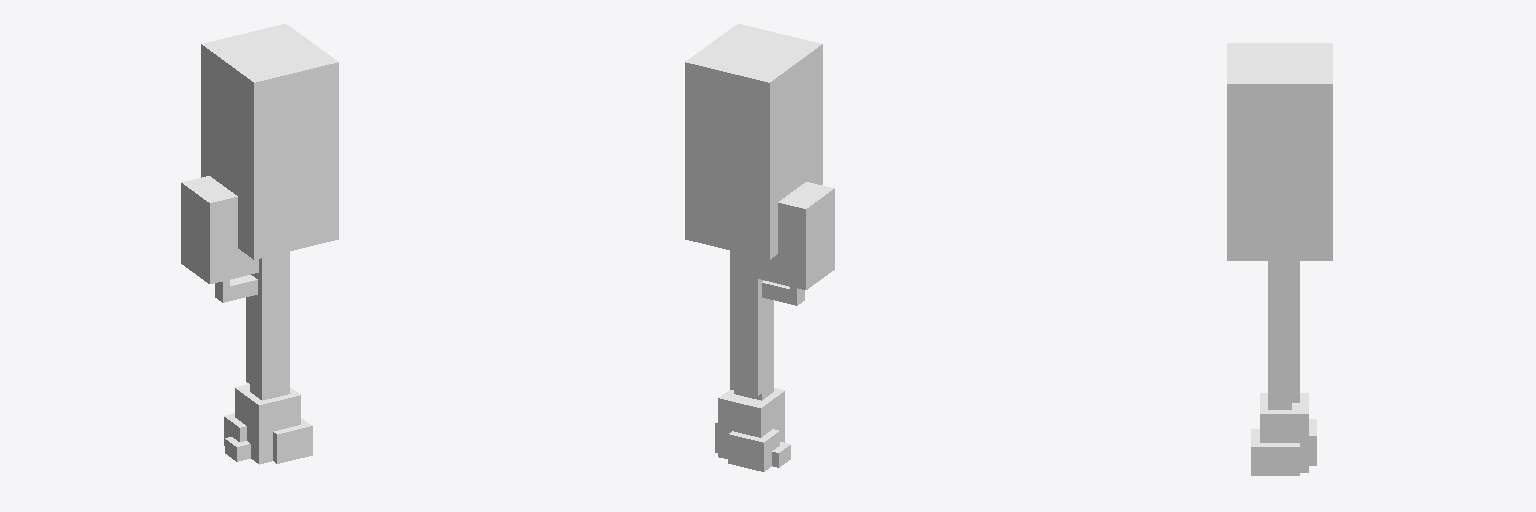
File: Voxels-9.obj
The picture shows the model from 3 angles: view 1: azimuth 30°, elevation 25°; view 2: azimuth 150°, elevation 25°; view 3: azimuth 270°, elevation 25°; orthographic projection.
Visible parts, largest first — view 1: Voxels-9; view 2: Voxels-9; view 3: Voxels-9.
Boxes of the visible parts, x1,y1,x2,y2 form: Voxels-9: [181, 24, 338, 464]; Voxels-9: [685, 24, 834, 471]; Voxels-9: [1227, 43, 1332, 475].
Bounding box in the file's own units: 16 × 54 × 13.